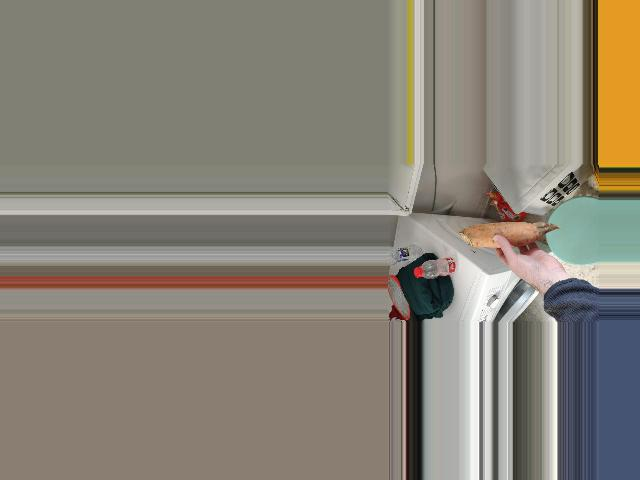sweet_potato: (466, 220, 552, 252)
